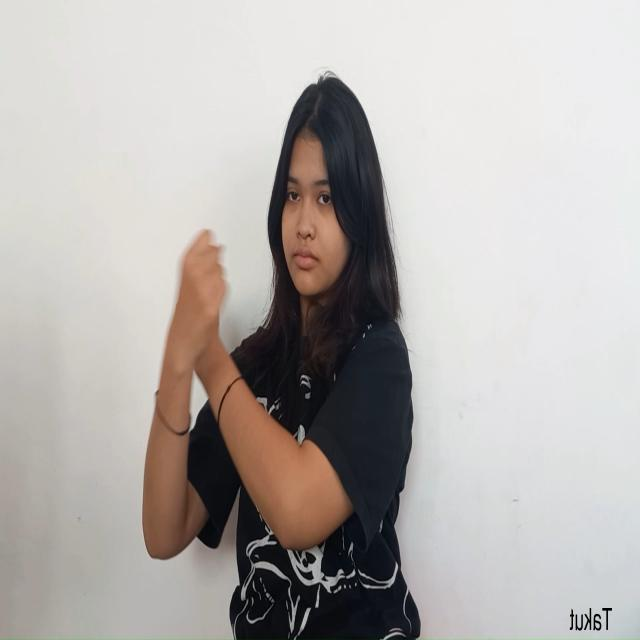Takut -BISINDO-: (156, 224, 234, 426)
